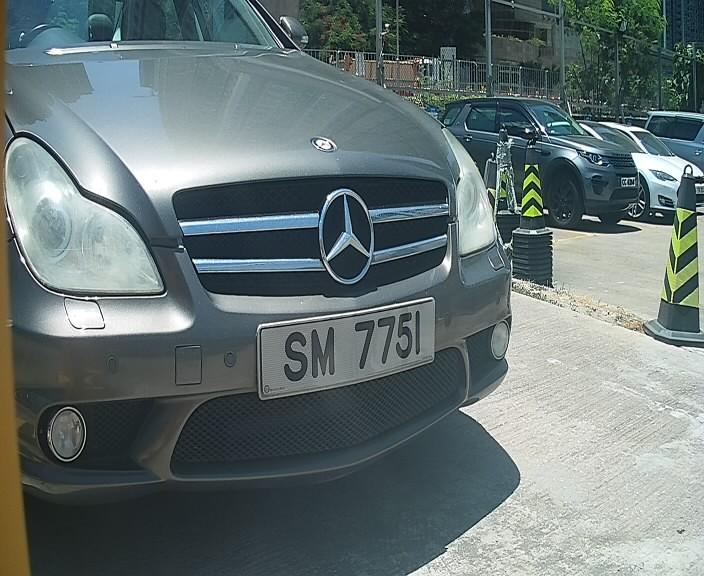privatecar: (7, 16, 551, 541)
